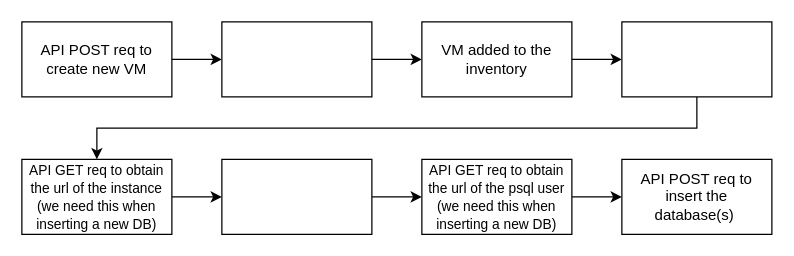
The diagram is 794 pixels wide and 256 high, and some of its shapes have lost their labels. The shapes that lost their labels are listed below. From the top down, each one's box as (x1, y1, x2, y2) in pixels, then its label:
(221, 21, 372, 97): VM is created
(621, 21, 772, 97): API POST req to add the PostgreSQL instance on the VM
(221, 158, 372, 234): API POST req to insert user(s)
